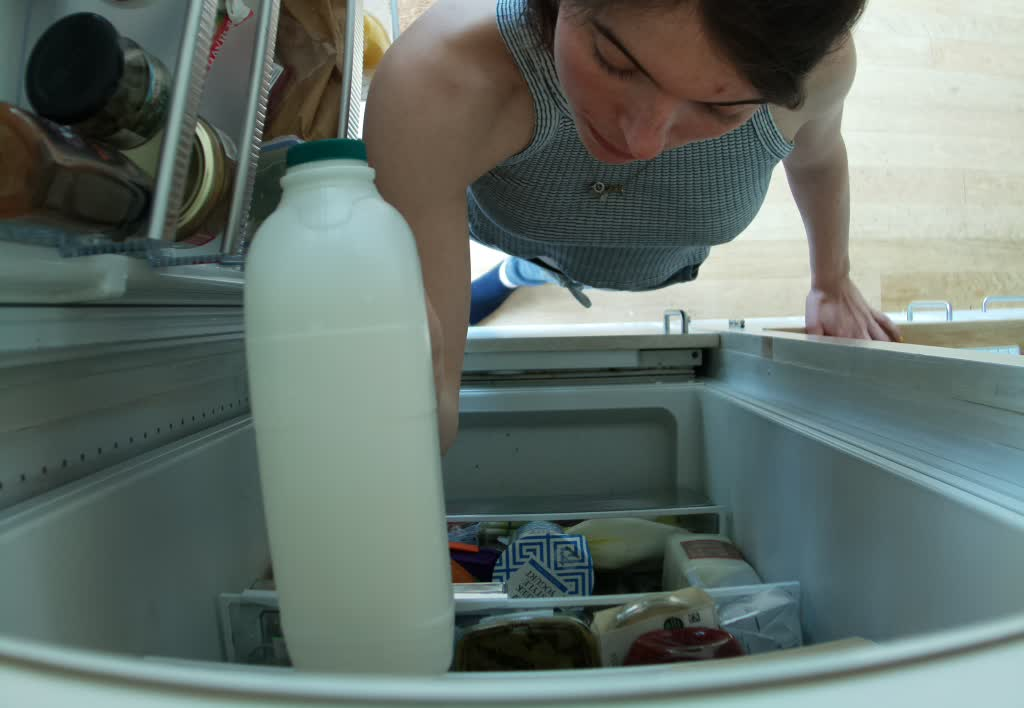milk: (245, 143, 456, 680)
